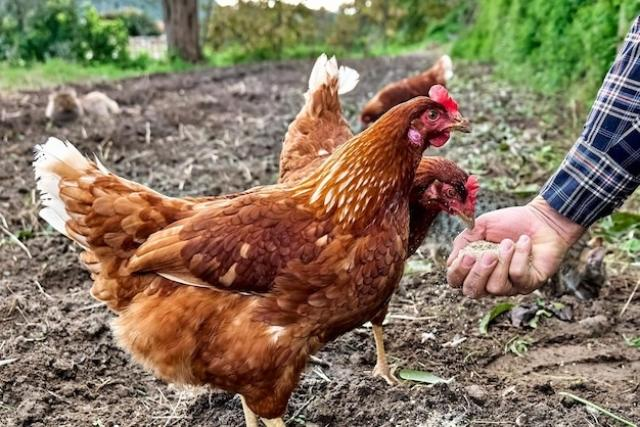Chicken: (33, 85, 472, 427), (282, 54, 479, 390), (360, 54, 454, 127)
